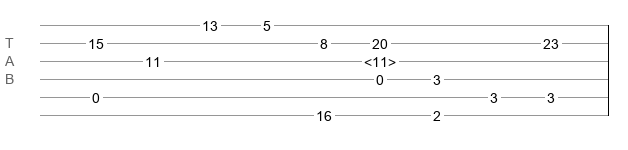0: (92, 90, 100, 100), (376, 72, 384, 82)
11: (145, 54, 161, 64)
13: (202, 18, 218, 28)
15: (88, 36, 104, 46)
16: (316, 108, 332, 118)
2: (433, 108, 441, 118)
20: (372, 36, 388, 46)
23: (543, 36, 559, 46)
3: (433, 72, 441, 82), (490, 90, 498, 100), (547, 90, 555, 100)
5: (263, 18, 271, 28)
8: (320, 36, 328, 46)
harmonic: (364, 54, 396, 64)
